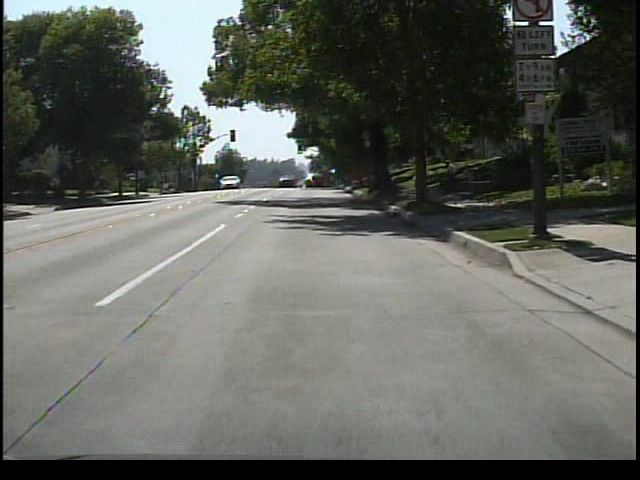person: (440, 156, 463, 195)
